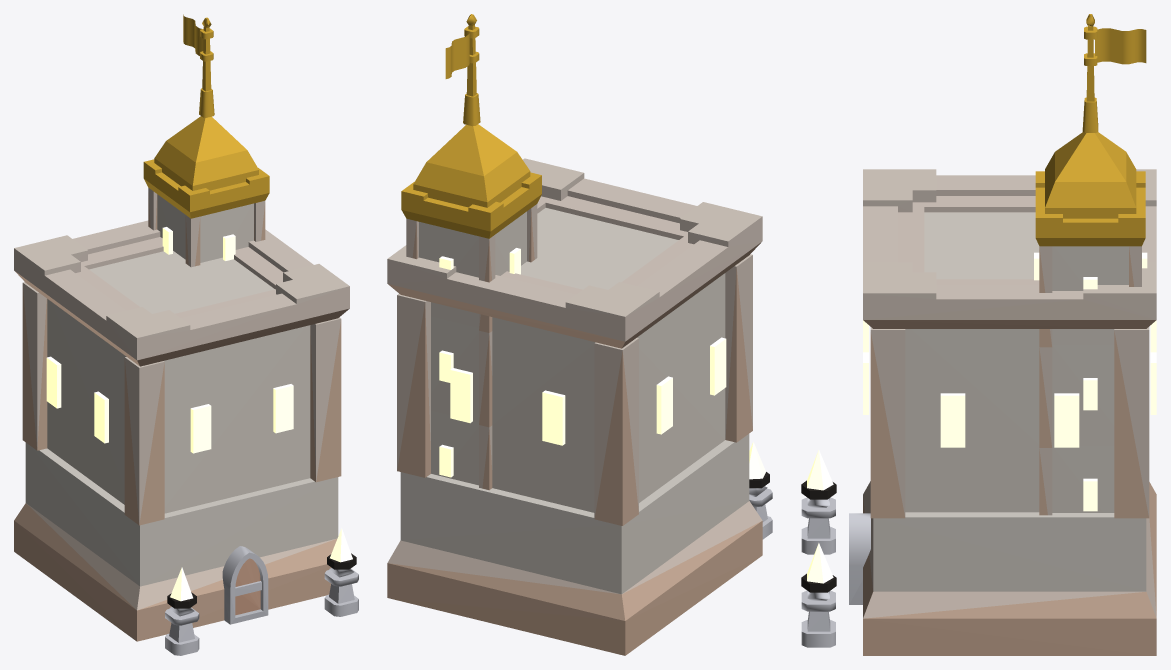
File: keep_l1.glb
3 views of the same model, side by side, from view 1: azimuth 30°, elevation 25°; view 2: azimuth 150°, elevation 25°; view 3: azimuth 270°, elevation 25° (orthographic). The views are drawn at different scales.
Parts seen in each view (by area): view 1: keep_l1; view 2: keep_l1; view 3: keep_l1.
Boxes of the visible parts, x1,y1,x2,y2 form: keep_l1: (14, 14, 358, 655); keep_l1: (387, 14, 772, 655); keep_l1: (801, 14, 1156, 655).
Bounding box in the file's own units: 3.7 × 8.53 × 4.48.
